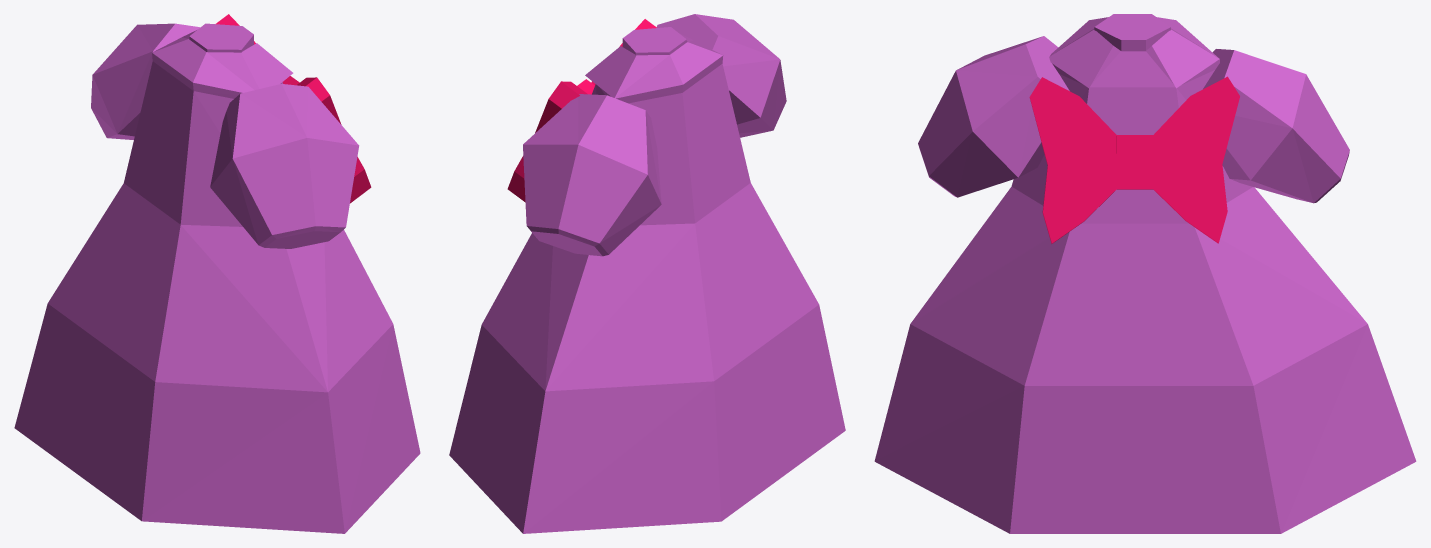
The model's file is Body.obj.
3 renders of one model, left to right at view 1: azimuth 30°, elevation 25°; view 2: azimuth 150°, elevation 25°; view 3: azimuth 270°, elevation 25°, orthographic. The views are drawn at different scales.
Visible parts, largest first — view 1: Sleeve.R; view 2: Sleeve.R; view 3: Sleeve.R.
Part boxes in pixels (<box>): Sleeve.R: <box>14,14,420,533</box>; Sleeve.R: <box>449,14,845,533</box>; Sleeve.R: <box>874,14,1416,533</box>.
Size of the model in its own units: 0.9561 by 1.34 by 1.51.
